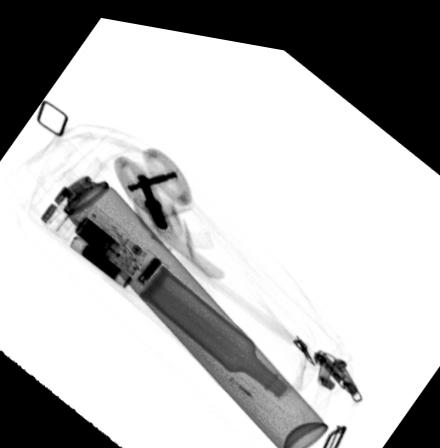Sprayer: (22, 132, 331, 448)
